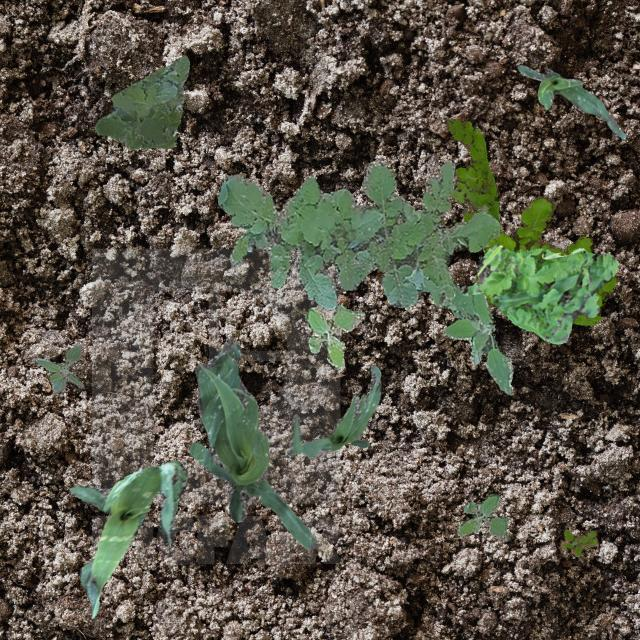crop: (188, 338, 316, 548), (68, 458, 185, 616), (286, 365, 380, 457), (516, 64, 624, 138)
weed: (218, 160, 500, 308), (474, 196, 616, 324), (460, 242, 618, 344), (94, 54, 188, 148), (439, 282, 512, 392), (444, 116, 498, 222), (304, 304, 364, 368), (34, 342, 82, 392), (456, 494, 508, 540), (560, 528, 596, 556)
